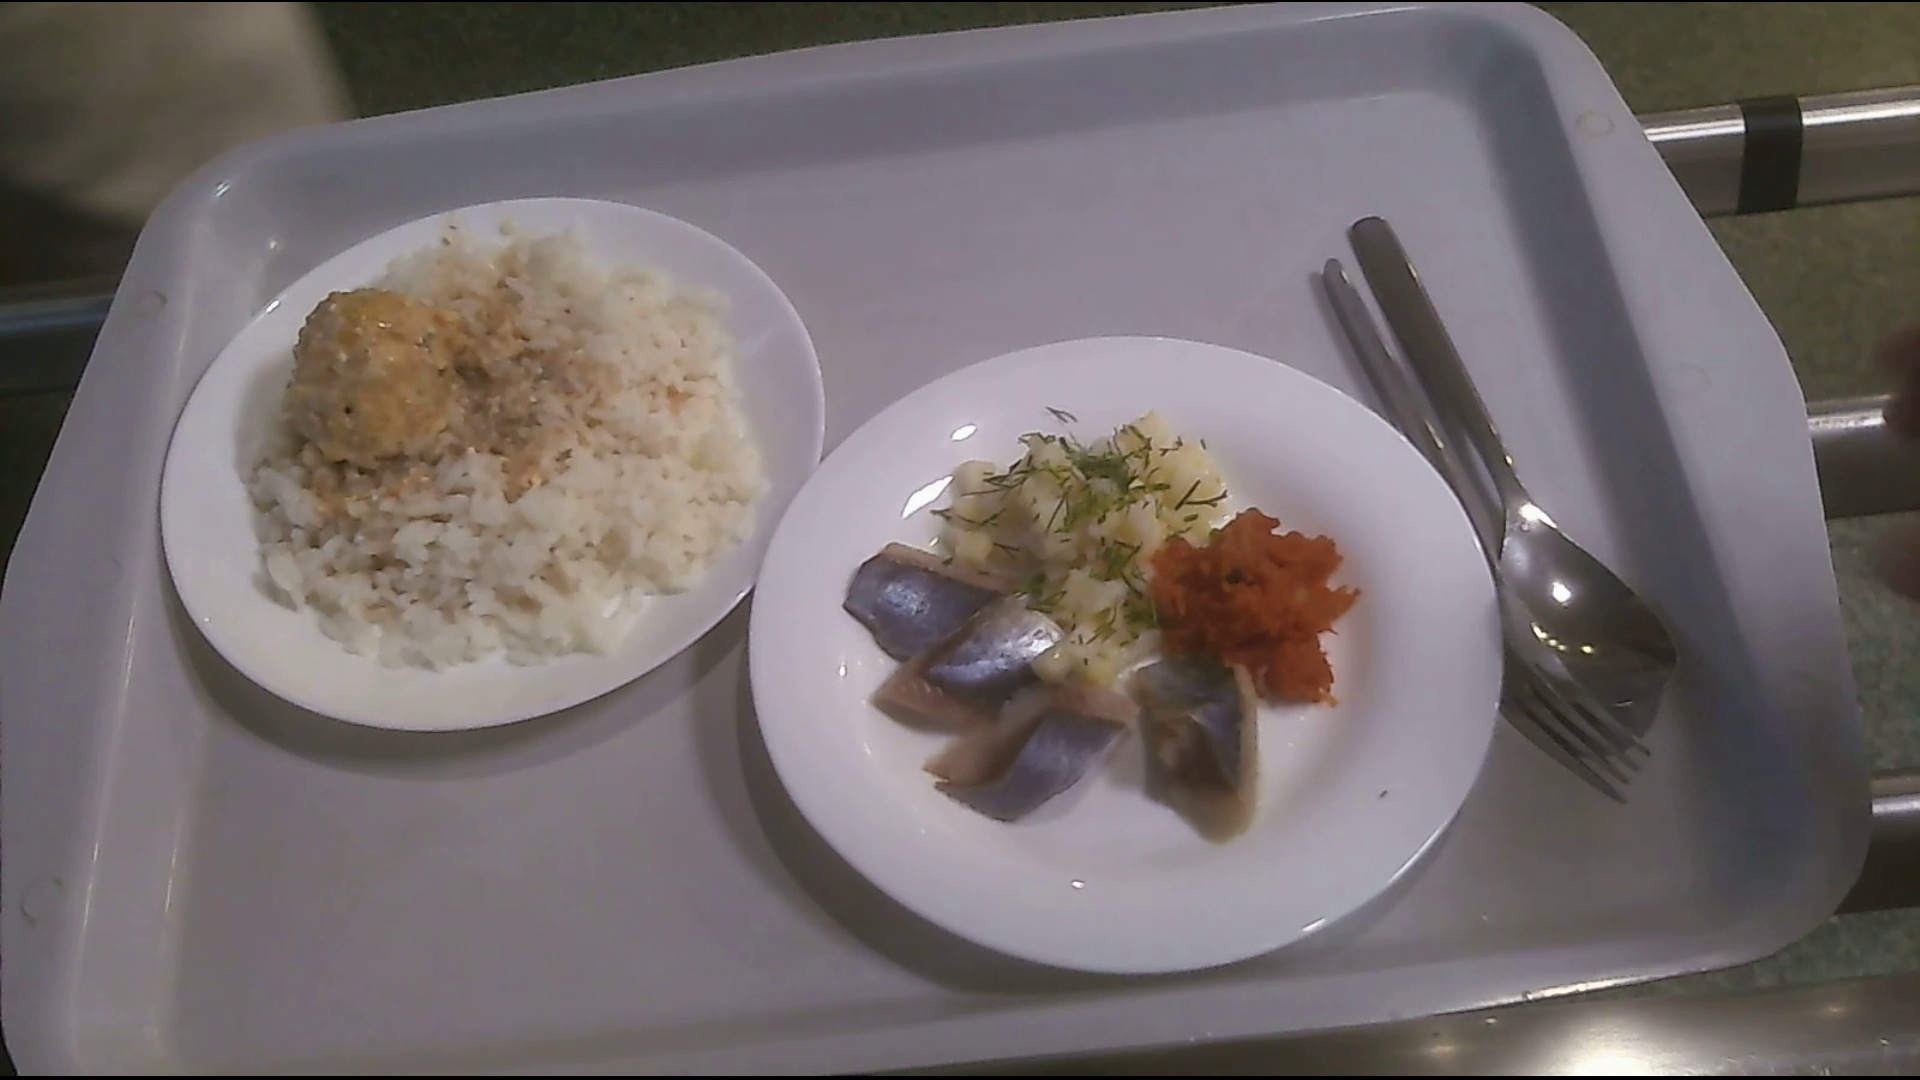cutlery: (1329, 219, 1665, 796)
plate: (757, 338, 1497, 969), (158, 200, 819, 741)
